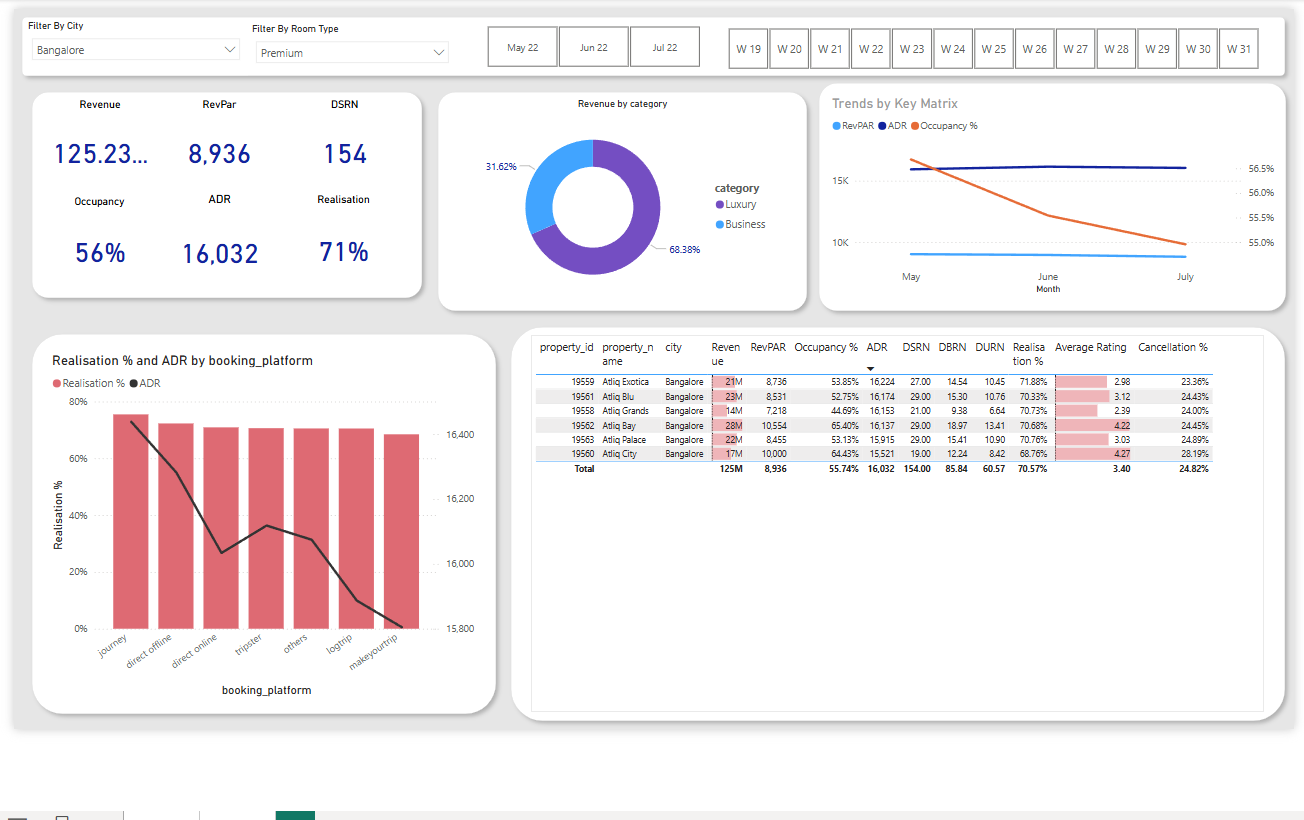

The dashboard page shown, as its layout file describes it:
{"tool":"powerbi","page":{"name":"Page 1","canvas":[1600,900],"ordinal":0},"visuals":[{"type":"shape","box":[0,0,1598.8,93.8],"z":0},{"type":"shape","box":[611.2,387.5,987.5,512.5],"z":1000},{"type":"shape","box":[12.5,396.2,600,495],"z":2000},{"type":"shape","box":[996.2,82.5,603.8,305],"z":3000},{"type":"shape","box":[520,93.8,481.2,293.8],"z":4000},{"type":"shape","box":[12.5,93.8,507.5,277.5],"z":5000},{"type":"tableEx","fields":{"Values":["dim_hotels.property_id","dim_hotels.property_name","dim_hotels.city","key_measures.Revenue","key_measures.RevPAR","key_measures.Occupancy %","key_measures.ADR","key_measures.DSRN","key_measures.DBRN","key_measures.DURN","key_measures.Realisation %","key_measures.Average Rating"]},"box":[646.2,407.5,916.2,471.2],"z":6000},{"type":"slicer","title":"Filter By City","fields":{"Values":["dim_hotels.city"]},"box":[12.5,13.8,280,68.8],"z":7000},{"type":"slicer","title":"Filter By Room Type","fields":{"Values":["dim_rooms.room_class"]},"box":[292.5,17.5,261.2,63.8],"z":8000},{"type":"slicer","fields":{"Values":["dim_date.mmm yy"]},"box":[566.2,15,315,63.8],"z":9000},{"type":"slicer","fields":{"Values":["dim_date.week no"]},"box":[867.5,17.5,712.5,63.8],"z":10000},{"type":"donutChart","title":"Revenue by category","fields":{"Y":["key_measures.Revenue"],"Category":["dim_hotels.category"]},"box":[566.2,111.2,388.8,260],"z":11000},{"type":"card","title":"RevPar","fields":{"Values":["key_measures.RevPAR"]},"box":[172.5,111.2,168.8,118.8],"z":12000},{"type":"card","title":"DSRN","fields":{"Values":["key_measures.DSRN"]},"box":[327.5,111.2,171.2,118.8],"z":13000},{"type":"card","title":"Occupancy","fields":{"Values":["key_measures.Occupancy %"]},"box":[30,232.5,153.8,123.8],"z":14000},{"type":"card","title":"ADR","fields":{"Values":["key_measures.ADR"]},"box":[172.5,230,168.8,130],"z":15000},{"type":"card","title":"Realisation","fields":{"Values":["key_measures.Realisation %"]},"box":[325,230,173.8,126.2],"z":16000},{"type":"lineChart","title":"Trends by Key Matrix","fields":{"Category":["dim_date.mmm yy.Variation.Date Hierarchy.Month","dim_date.week no"],"Y":["key_measures.RevPAR","key_measures.ADR"],"Y2":["key_measures.Occupancy %"]},"box":[1017.5,107.5,562.5,253.8],"z":17000},{"type":"card","title":"Revenue","fields":{"Values":["key_measures.Revenue"]},"box":[42.5,111.2,130,118.8],"z":18000},{"type":"lineStackedColumnComboChart","fields":{"Category":["fact_bookings.booking_platform"],"Y":["key_measures.Realisation %"],"Y2":["key_measures.ADR"]},"box":[42.5,428.8,537.5,436.2],"z":19000}]}

Visuals, with their boxes on the page's 1600x900 design canvas (x1, y1, x2, y2). These are canvas units, not pixel positions in the 1304x820 screenshot, which may show the page scaled, cropped or inside an application window:
shape: bbox=[0, 0, 1599, 94]
shape: bbox=[611, 388, 1599, 900]
shape: bbox=[12, 396, 612, 891]
shape: bbox=[996, 82, 1600, 388]
shape: bbox=[520, 94, 1001, 388]
shape: bbox=[12, 94, 520, 371]
tableEx - dim_hotels.property_id x dim_hotels.property_name: bbox=[646, 408, 1562, 879]
"Filter By City" slicer: bbox=[12, 14, 292, 83]
"Filter By Room Type" slicer: bbox=[292, 18, 554, 81]
slicer - dim_date.mmm yy: bbox=[566, 15, 881, 79]
slicer - dim_date.week no: bbox=[868, 18, 1580, 81]
"Revenue by category" donutChart: bbox=[566, 111, 955, 371]
"RevPar" card: bbox=[172, 111, 341, 230]
"DSRN" card: bbox=[328, 111, 499, 230]
"Occupancy" card: bbox=[30, 232, 184, 356]
"ADR" card: bbox=[172, 230, 341, 360]
"Realisation" card: bbox=[325, 230, 499, 356]
"Trends by Key Matrix" lineChart: bbox=[1018, 108, 1580, 361]
"Revenue" card: bbox=[42, 111, 172, 230]
lineStackedColumnComboChart - fact_bookings.booking_platform x key_measures.Realisation %: bbox=[42, 429, 580, 865]
